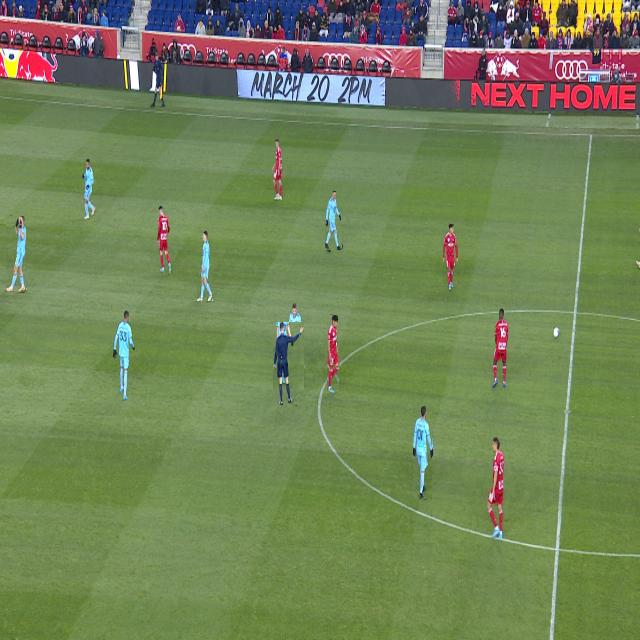football: (553, 327, 560, 338)
player: (113, 311, 135, 400), (487, 437, 504, 539), (414, 407, 432, 499), (7, 217, 26, 292), (493, 308, 508, 387), (198, 231, 212, 301), (326, 191, 342, 250), (157, 206, 171, 273), (327, 315, 339, 392), (444, 224, 457, 290), (83, 159, 96, 219), (272, 138, 282, 200), (286, 303, 302, 339), (292, 368, 296, 384), (285, 341, 287, 346)
referee: (274, 323, 304, 405)
